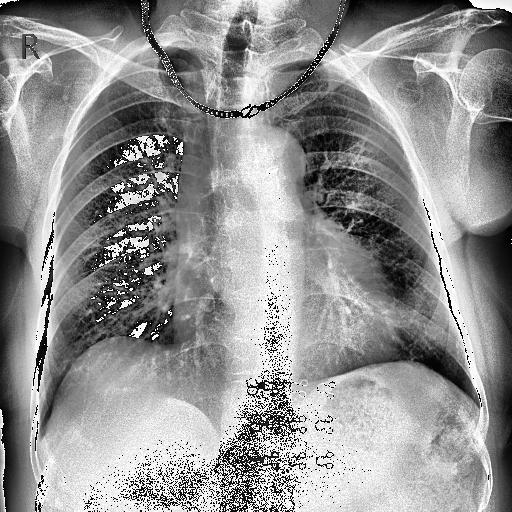0- Aortic enlargement: (238, 120, 306, 210), (232, 123, 308, 199), (227, 131, 307, 190)
11- Pleural thickening: (268, 49, 322, 67)
3- Cardiomegaly: (168, 246, 400, 366), (170, 277, 403, 388), (171, 276, 402, 377)
